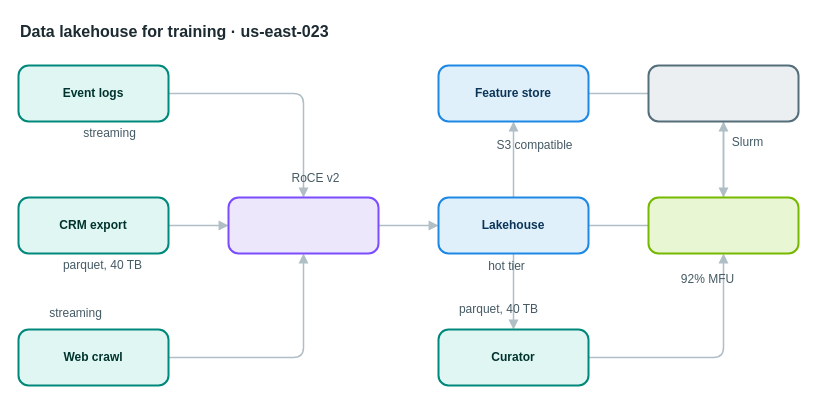
The diagram is 816 pixels wide and 403 high, and some of its shapes have lost their labels. Each missing label, with the centre of its shape:
"Dashboards" belongs at (723,93).
"Stream bus" belongs at (303,225).
"Training jobs" belongs at (723,225).
